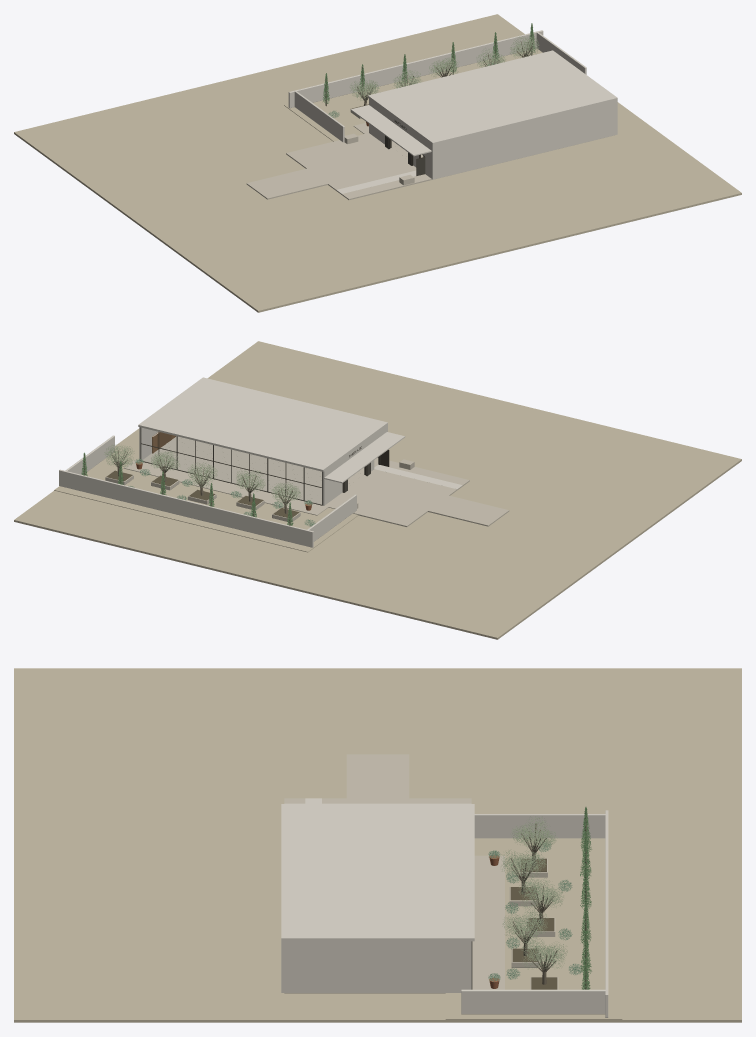
File: Karats-R22-Chisel.glb
3 renders of one model, top to bottom at view 1: azimuth 30°, elevation 25°; view 2: azimuth 150°, elevation 25°; view 3: azimuth 270°, elevation 25°, orthographic. The views are drawn at different scales.
Parts seen in each view (by area): view 1: SITE_GROUND, ROOM_CEILING, NORTH_SOLID_WALL, FORECOURT_14x18, SPANISH_LIME_BOUNDARY, EXTERIOR_GROUND, ROAD_CONNECTION, ENTRANCE_CANOPY, GARDEN_WEST_BOUNDARY, GARDEN_EAST_BOUNDARY; view 2: SITE_GROUND, ROOM_CEILING, ROOM_FLOOR_30x18, EXTERIOR_GROUND, FORECOURT_14x18, SPANISH_LIME_BOUNDARY, TERRACE, ROAD_CONNECTION, ENTRANCE_CANOPY, GARDEN_WEST_BOUNDARY, GARDEN_EAST_BOUNDARY, WEST_WALL.002 (+2 smaller); view 3: SITE_GROUND, ROOM_CEILING, EXTERIOR_GROUND, EAST_SOLID_WALL, TERRACE, GARDEN_EAST_BOUNDARY, GARDEN_WEST_BOUNDARY, ROAD_CONNECTION, FORECOURT_14x18, OLIVE_CROWN_3, OLIVE_CROWN_2, OLIVE_CROWN_1 (+3 smaller).
Part boxes in pixels (left/top/right/bottom): SITE_GROUND: left=14, top=14, right=741, bottom=312; ROOM_CEILING: left=368, top=50, right=617, bottom=144; NORTH_SOLID_WALL: left=431, top=100, right=617, bottom=179; FORECOURT_14x18: left=286, top=133, right=432, bottom=199; SPANISH_LIME_BOUNDARY: left=288, top=30, right=543, bottom=108; EXTERIOR_GROUND: left=284, top=48, right=542, bottom=141; ROAD_CONNECTION: left=246, top=168, right=327, bottom=199; ENTRANCE_CANOPY: left=350, top=105, right=431, bottom=156; GARDEN_WEST_BOUNDARY: left=294, top=91, right=344, bottom=142; GARDEN_EAST_BOUNDARY: left=536, top=32, right=586, bottom=74; SITE_GROUND: left=14, top=341, right=741, bottom=639; ROOM_CEILING: left=138, top=377, right=387, bottom=471; ROOM_FLOOR_30x18: left=142, top=436, right=378, bottom=504; EXTERIOR_GROUND: left=54, top=447, right=358, bottom=552; FORECOURT_14x18: left=324, top=460, right=469, bottom=526; SPANISH_LIME_BOUNDARY: left=59, top=469, right=313, bottom=547; TERRACE: left=123, top=460, right=328, bottom=515; ROAD_CONNECTION: left=428, top=495, right=509, bottom=526; ENTRANCE_CANOPY: left=324, top=432, right=405, bottom=483; GARDEN_WEST_BOUNDARY: left=307, top=494, right=356, bottom=541; GARDEN_EAST_BOUNDARY: left=65, top=435, right=114, bottom=474; WEST_WALL.002: left=322, top=456, right=344, bottom=505; SITE_GROUND: left=14, top=668, right=741, bottom=1022; ROOM_CEILING: left=281, top=804, right=474, bottom=941; EXTERIOR_GROUND: left=445, top=834, right=622, bottom=1021; EAST_SOLID_WALL: left=284, top=941, right=471, bottom=992; TERRACE: left=472, top=855, right=504, bottom=989; GARDEN_EAST_BOUNDARY: left=461, top=989, right=605, bottom=1014; GARDEN_WEST_BOUNDARY: left=474, top=814, right=605, bottom=838; ROAD_CONNECTION: left=346, top=754, right=409, bottom=798; FORECOURT_14x18: left=284, top=798, right=471, bottom=803; OLIVE_CROWN_3: left=502, top=909, right=548, bottom=944; OLIVE_CROWN_2: left=518, top=878, right=563, bottom=910; OLIVE_CROWN_1: left=501, top=850, right=546, bottom=882.
Bounding box in the file's own units: 80 × 6.28 × 70.
